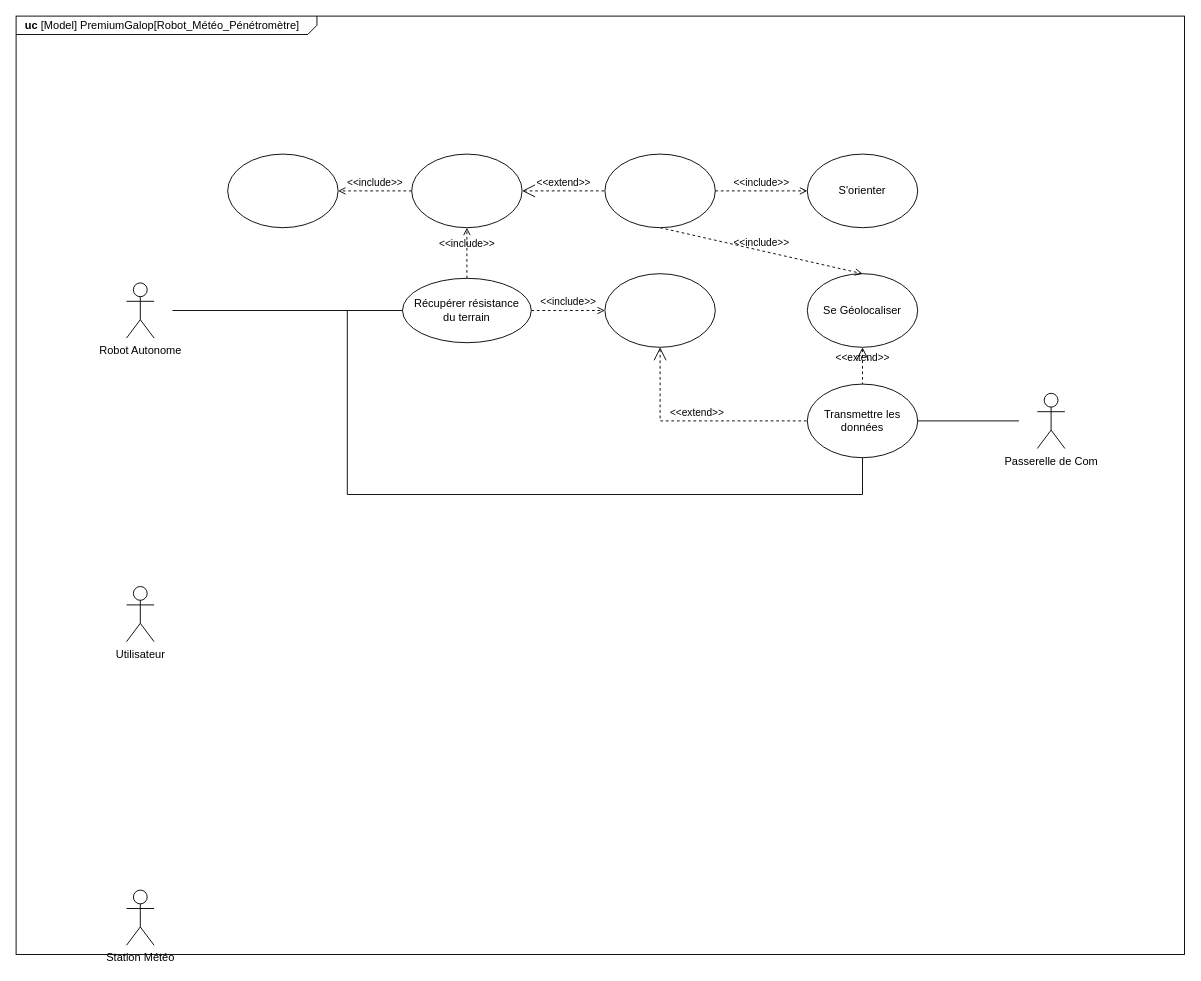
Some shapes in this 1201 by 981 pixel diagram are drawn without their labels. Here are the shapes that lost their labels. From the top down, the centre of each, then its label:
the point at 282,190: Recevoir coordonnées à atteindre
the point at 466,190: Déplacer le pénétromètre
the point at 659,190: Se déplacer
the point at 659,310: Utiliser le pénétromètre
